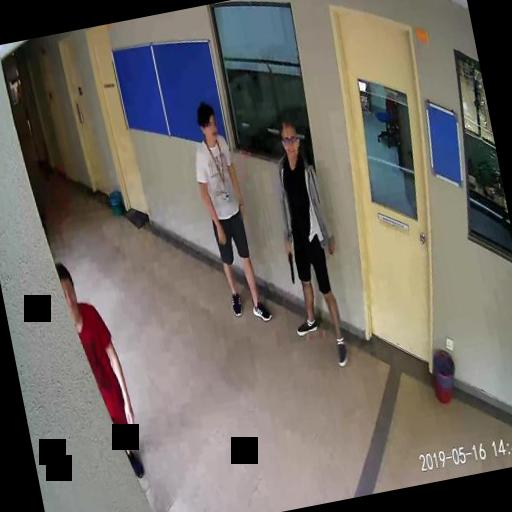Handgun: (283, 247, 297, 283)
